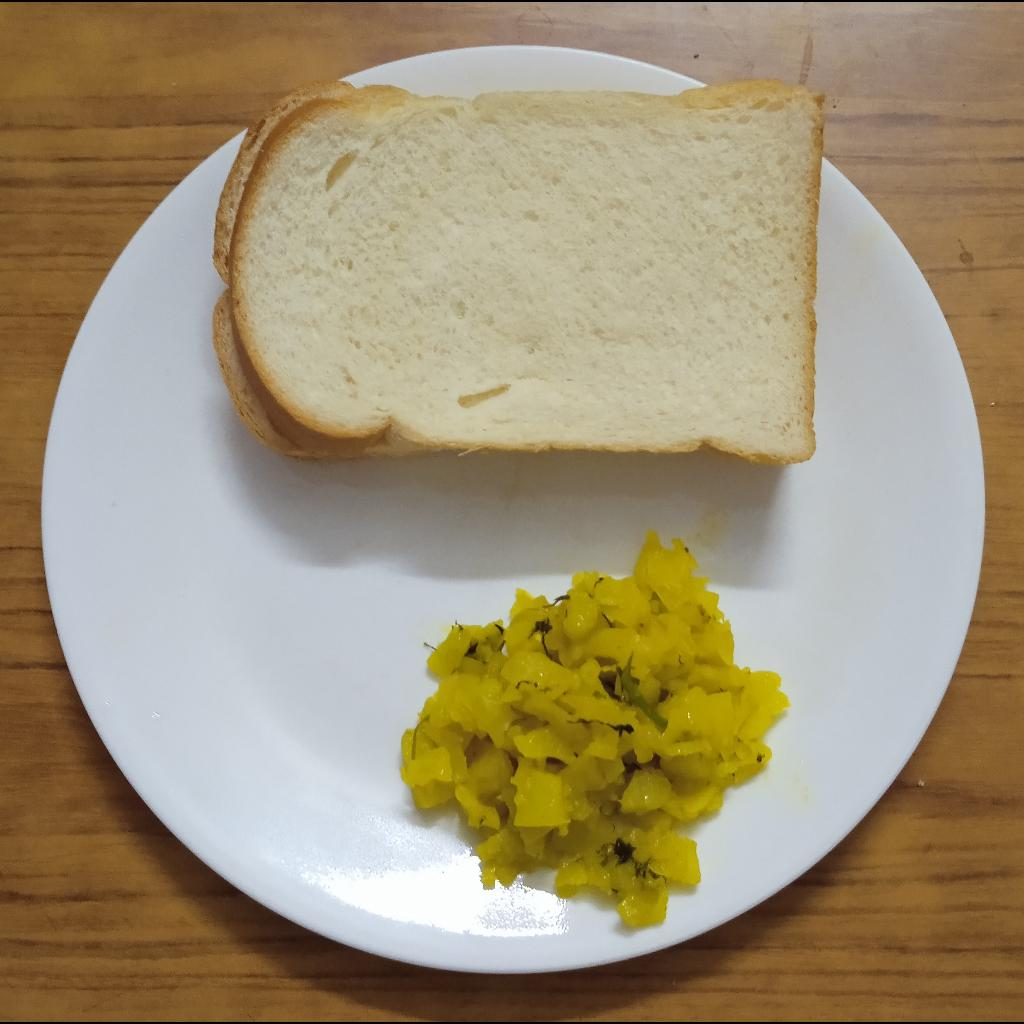bread: (213, 78, 825, 465)
lau: (400, 532, 789, 927)
